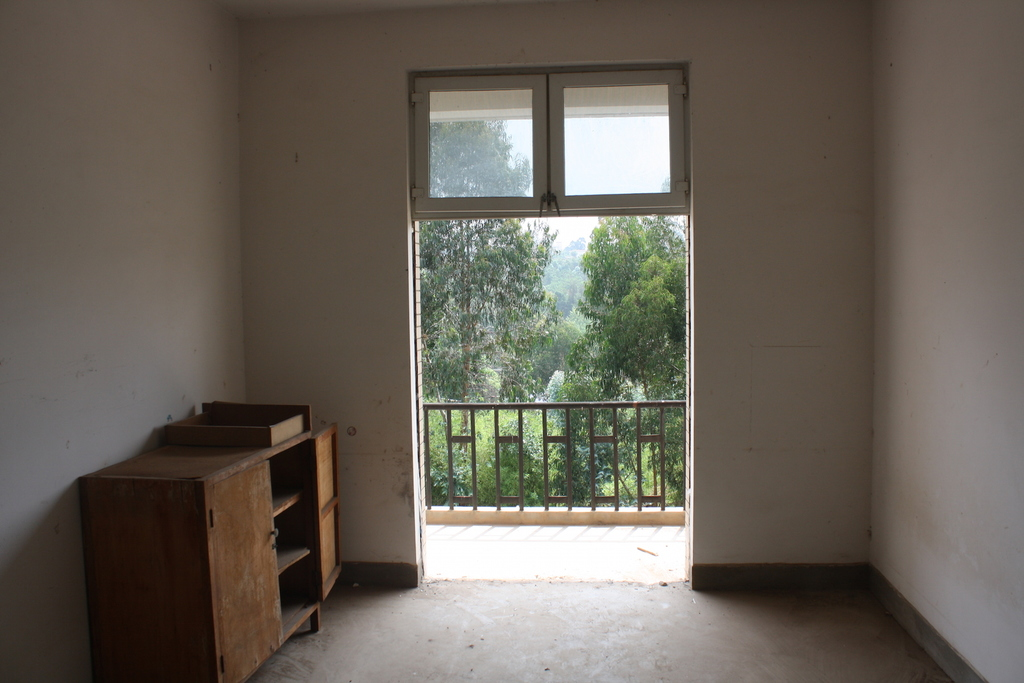Cabinetry: (81, 416, 343, 682)
